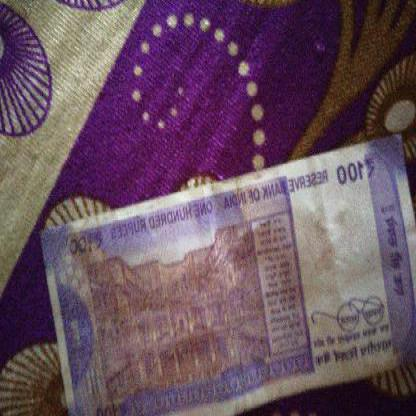New100Back: (40, 136, 411, 415)
